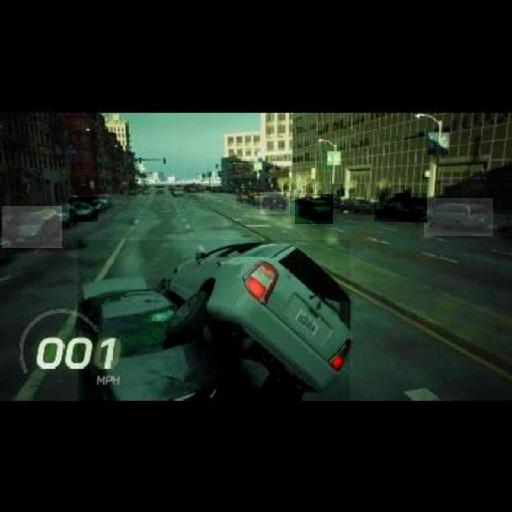小汽车: (424, 198, 493, 236), (2, 206, 62, 248), (374, 193, 427, 222), (295, 194, 333, 224), (70, 197, 98, 222), (260, 192, 290, 214)
小汽车撞小汽车: (78, 240, 350, 402)
